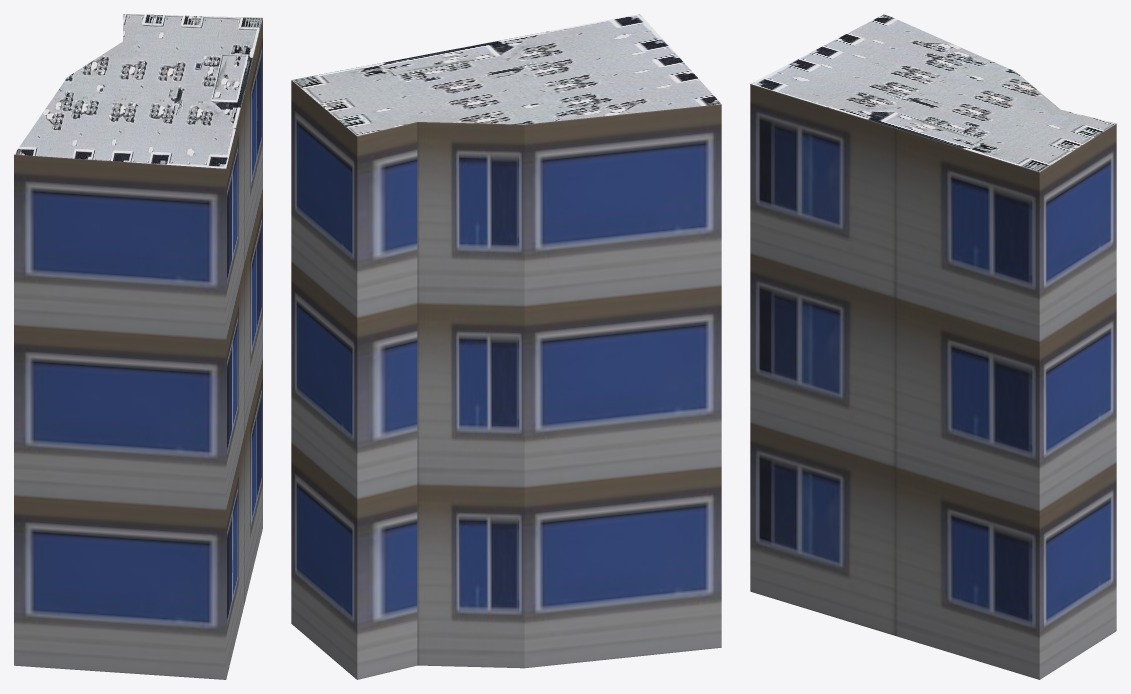
Rendered from ResTex__1049.fbx.
The picture shows the model from 3 angles, left to right: view 1: azimuth 30°, elevation 25°; view 2: azimuth 150°, elevation 25°; view 3: azimuth 270°, elevation 25°; orthographic projection. The views are drawn at different scales.
Parts seen in each view (by area): view 1: CityEngineMaterial_23_m, CityEngineMaterial_m; view 2: CityEngineMaterial_23_m, CityEngineMaterial_m; view 3: CityEngineMaterial_23_m, CityEngineMaterial_m.
Boxes of the visible parts, x1,y1,x2,y2 form: CityEngineMaterial_23_m: (14,18,262,679); CityEngineMaterial_m: (14,14,262,168); CityEngineMaterial_23_m: (291,80,721,679); CityEngineMaterial_m: (291,14,721,136); CityEngineMaterial_23_m: (750,84,1116,679); CityEngineMaterial_m: (751,14,1115,172).
Size of the model in its own units: 6.02 by 9 by 5.88.
2 materials, 2 textured.
